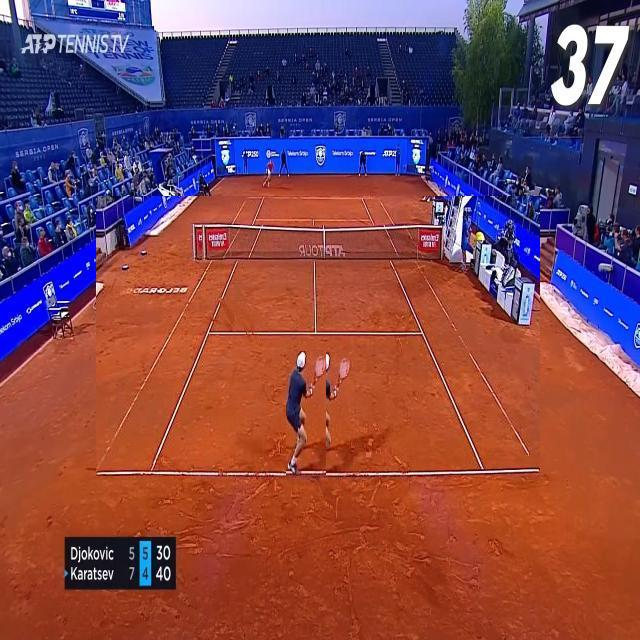court: (97, 196, 540, 476)
net: (202, 225, 444, 260)
player: (286, 352, 326, 478)
